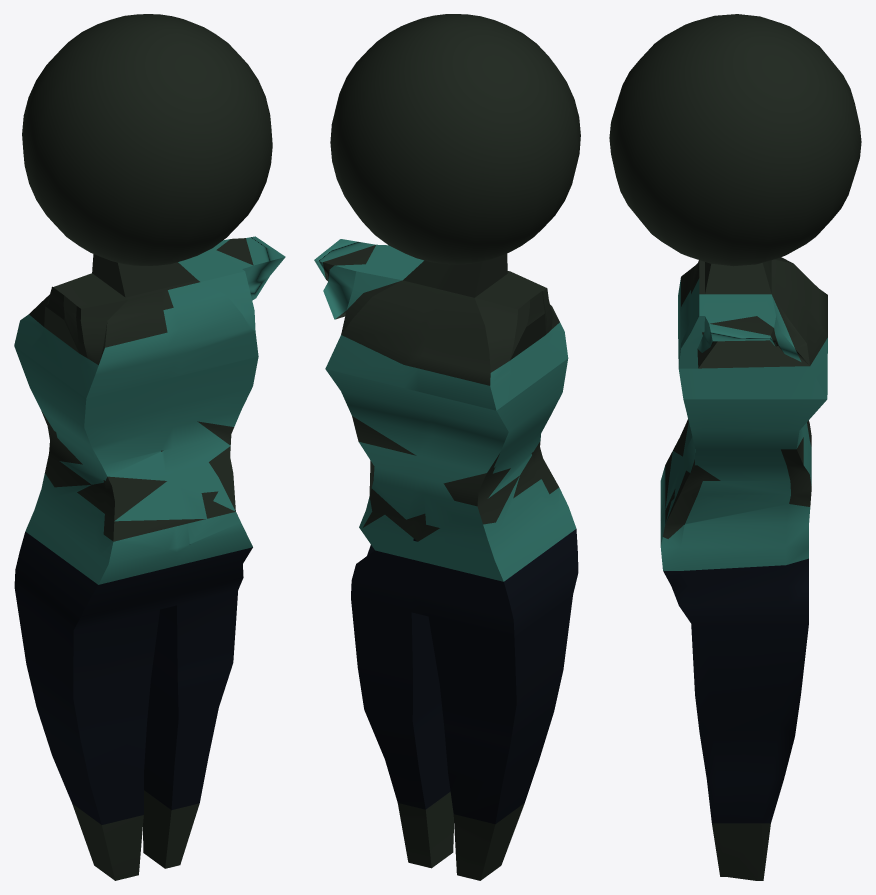
File: zombie_woman_one.obj
3 views of the same model, side by side, from view 1: azimuth 30°, elevation 25°; view 2: azimuth 150°, elevation 25°; view 3: azimuth 270°, elevation 25° (orthographic).
Parts seen in each view (by area): view 1: pSphere3; view 2: pSphere3; view 3: pSphere3.
Boxes of the visible parts, x1,y1,x2,y2 form: pSphere3: [14, 14, 285, 880]; pSphere3: [314, 14, 580, 880]; pSphere3: [609, 14, 861, 880].
Bounding box in the file's own units: 2.16 × 7.34 × 2.
